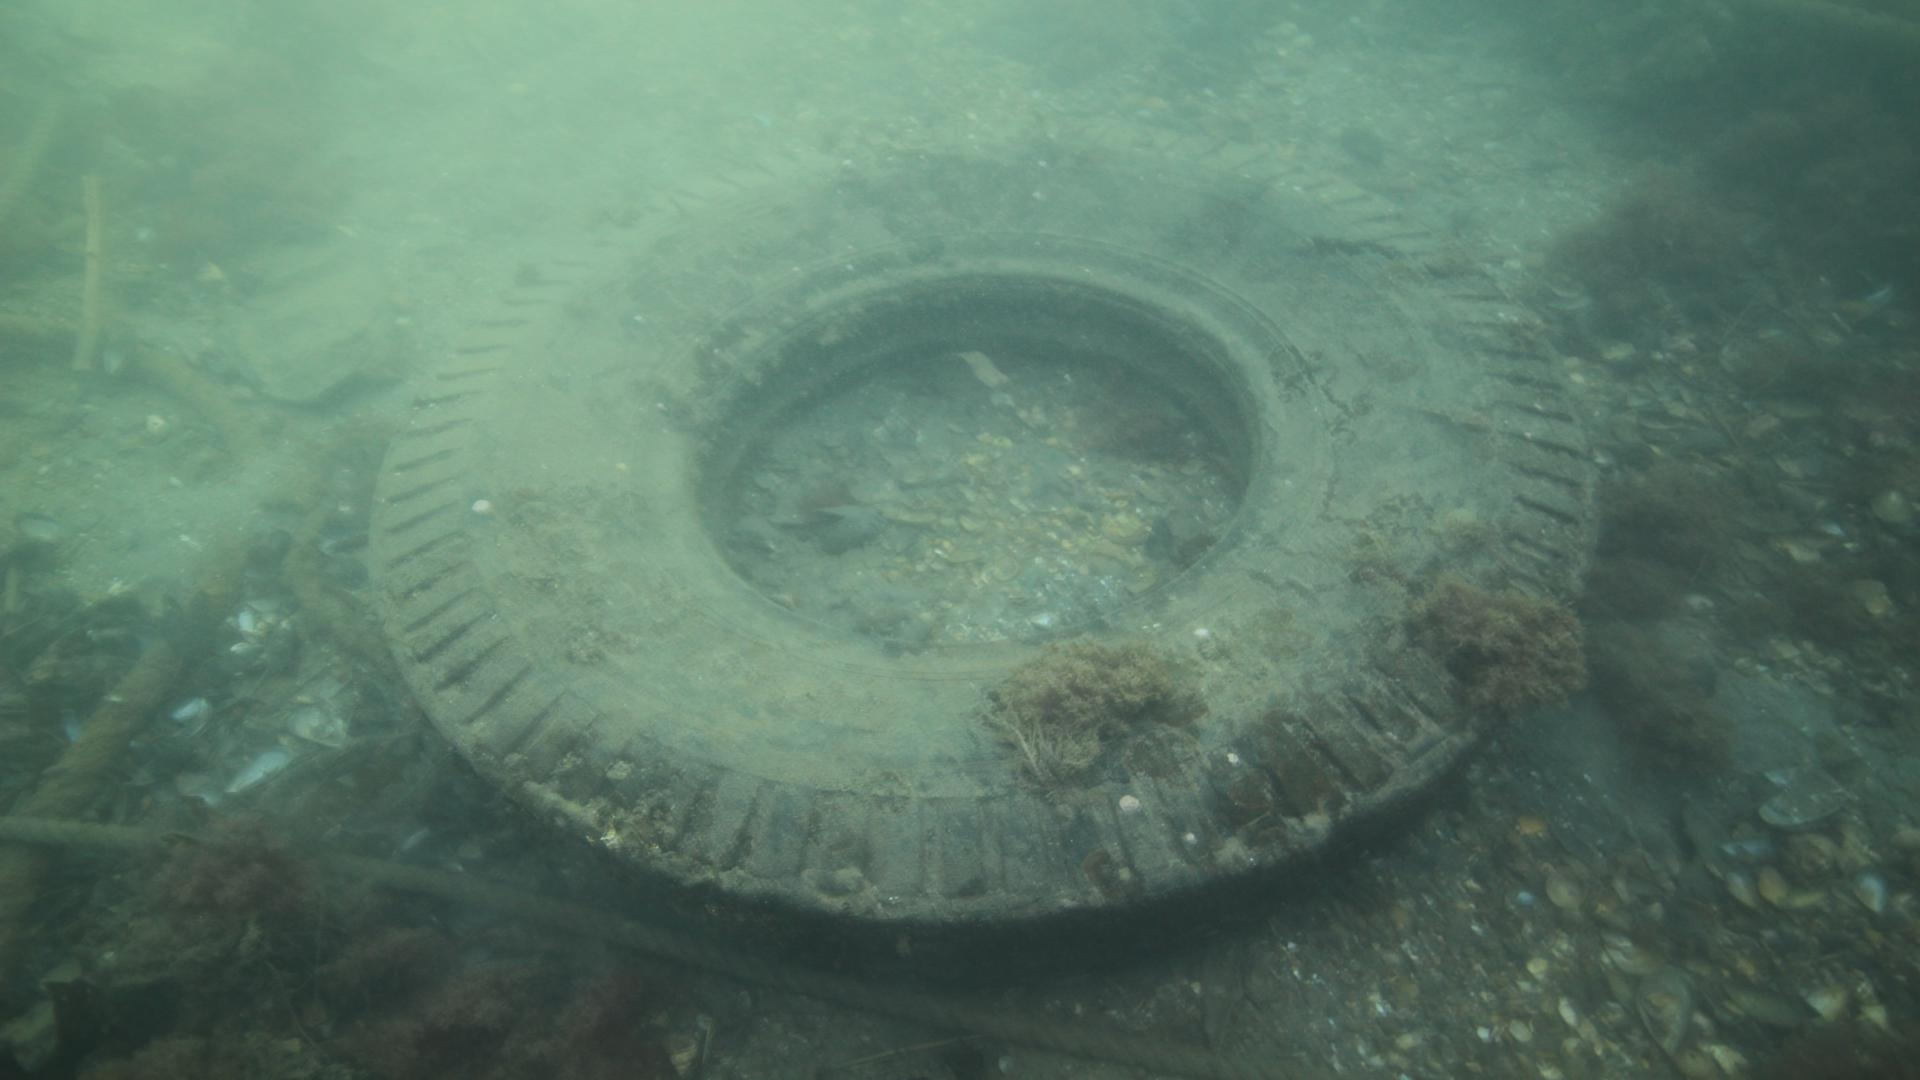rope: (0, 811, 1338, 1080)
tire: (364, 119, 1593, 994)
